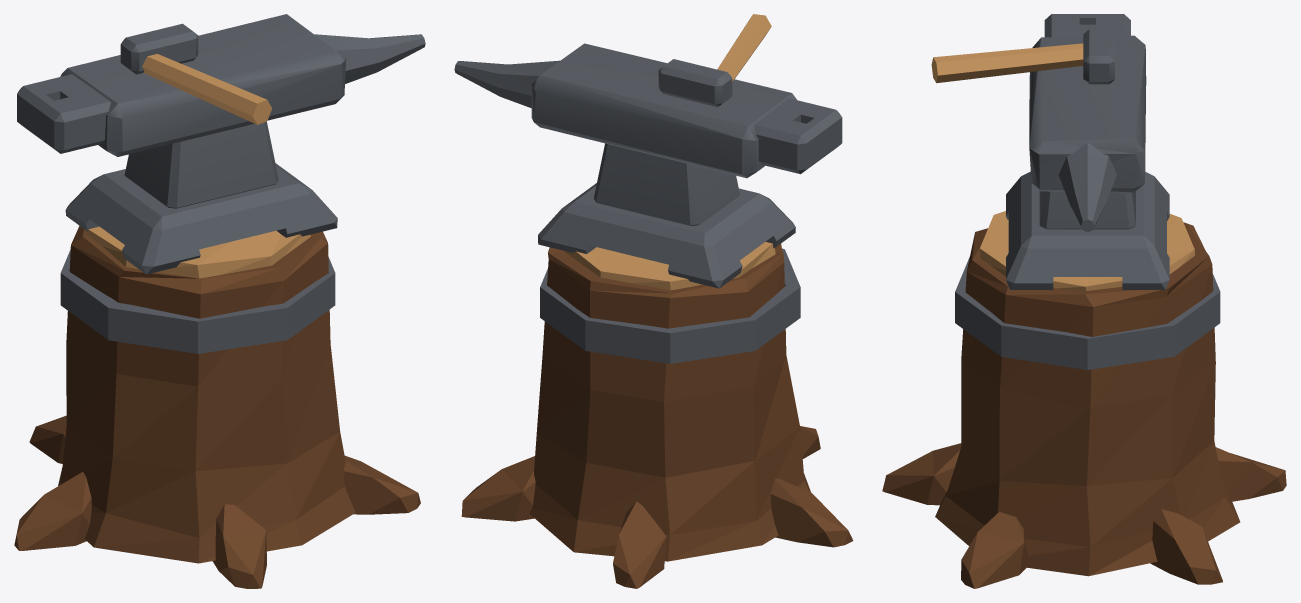
The model's file is anvil_stump.glb.
3 renders of one model, left to right at view 1: azimuth 30°, elevation 25°; view 2: azimuth 150°, elevation 25°; view 3: azimuth 270°, elevation 25°, orthographic. The views are drawn at different scales.
Parts seen in each view (by area): view 1: stump, anvil_face, anvil_base, stump_band, anvil_waist, heel, stump_top, root_2, root_3, hammer_handle, root_4, horn (+2 smaller); view 2: stump, anvil_face, anvil_base, stump_band, anvil_waist, heel, root_2, root_1, stump_top, root_0, hammer_head, horn (+1 smaller); view 3: stump, anvil_face, anvil_base, stump_band, hammer_handle, root_4, root_0, stump_top, horn, root_3, anvil_waist, root_1 (+2 smaller).
Part boxes in pixels (x1,y1,x2,y2): stump: (58,226,355,563); anvil_face: (60,14,346,156); anvil_base: (65,163,337,274); stump_band: (60,249,335,353); anvil_waist: (124,121,278,208); heel: (17,74,110,153); stump_top: (86,226,310,278); root_2: (14,472,91,550); root_3: (212,504,266,588); hammer_handle: (142,54,271,124); root_4: (343,455,420,514); horn: (314,34,425,83); stump: (529,244,810,561); anvil_face: (531,43,796,178); anvil_base: (538,183,795,288); stump_band: (540,248,800,363); anvil_waist: (593,143,739,225); heel: (754,98,842,174); root_2: (770,478,853,547); root_1: (613,501,666,588); stump_top: (564,242,775,290); root_0: (461,456,535,521); hammer_head: (658,59,732,106); horn: (454,60,559,108); stump: (935,222,1240,576); anvil_face: (1029,35,1146,192); anvil_base: (1006,171,1169,289); stump_band: (955,256,1220,369); hammer_handle: (931,43,1083,83); root_4: (961,512,1027,588); root_0: (1150,509,1222,584); stump_top: (980,211,1195,290); horn: (1058,142,1116,232); root_3: (882,443,961,505); anvil_waist: (1039,191,1135,229); root_1: (1215,447,1286,501).
Size of what is drawn, in the model's own units: 0.7949 by 0.8692 by 0.7021.
